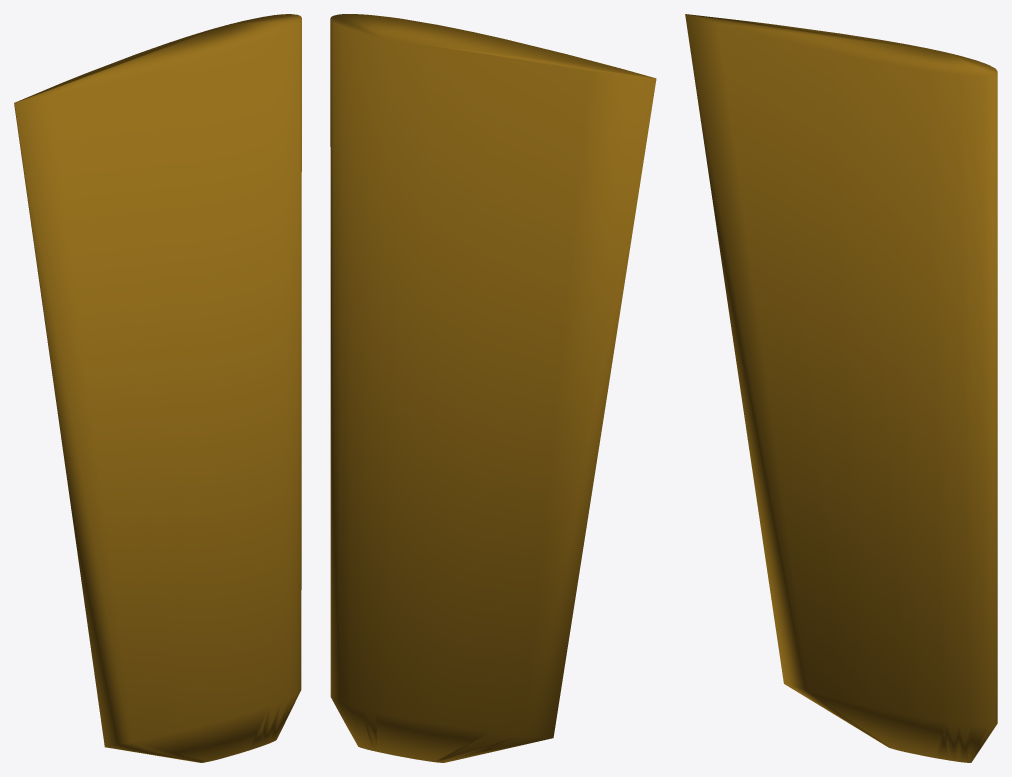
File: rudder.dae
3 renders of one model, left to right at view 1: azimuth 30°, elevation 25°; view 2: azimuth 150°, elevation 25°; view 3: azimuth 330°, elevation 25°, orthographic. The views are drawn at different scales.
Visible parts, largest first — view 1: rudder_convex_hull; view 2: rudder_convex_hull; view 3: rudder_convex_hull.
Boxes of the visible parts, bbox=[...] form: rudder_convex_hull: bbox=[14, 14, 301, 762]; rudder_convex_hull: bbox=[330, 14, 656, 762]; rudder_convex_hull: bbox=[685, 14, 997, 762].
Bounding box in the file's own units: 0.0902 × 0.0152 × 0.2032.
